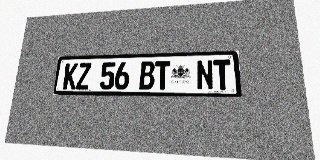5: (100, 62, 116, 90)
6: (114, 62, 130, 90)
B: (139, 61, 155, 90)
K: (63, 63, 78, 89)
N: (196, 60, 214, 90)
T: (213, 59, 232, 90), (155, 61, 170, 90)
Z: (76, 63, 92, 89)
